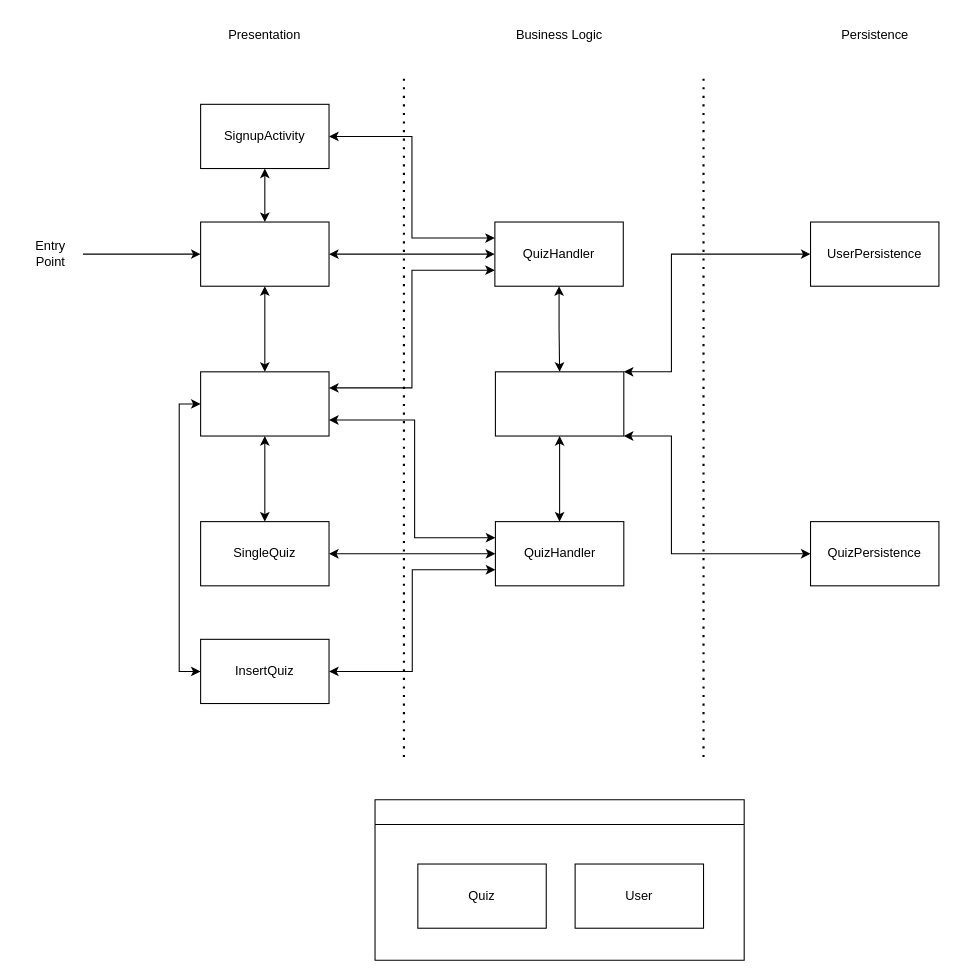
The diagram is 958 pixels wide and 979 high, and some of its shapes have lost their labels. The shapes that lost their labels are listed below. From the top down, each one's box as (x1, y1, x2, y2) in pixels, then its label:
(200, 221, 329, 286): LoginActivity
(200, 371, 329, 436): MainActivity
(494, 371, 624, 436): Services
(374, 799, 744, 960): Domain Specific Objects
